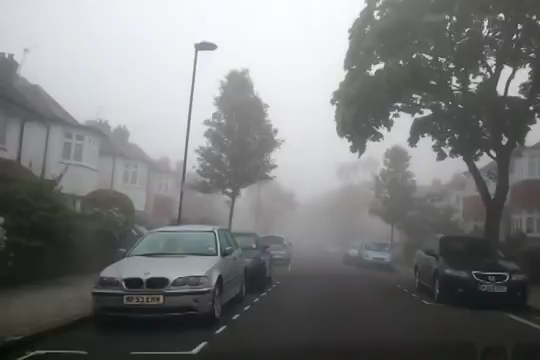car: (91, 222, 246, 329), (414, 231, 529, 309), (188, 229, 274, 296), (253, 232, 295, 267), (356, 237, 394, 270), (342, 240, 374, 265)
